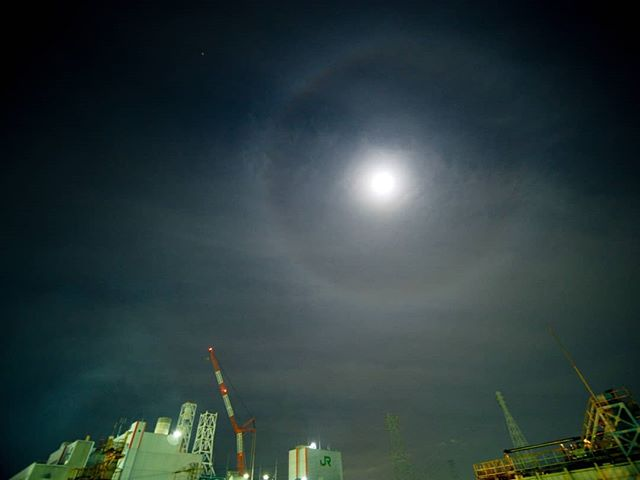building: (1, 414, 206, 480), (293, 441, 343, 480)
crane: (202, 346, 258, 480)
moon: (348, 163, 409, 207)
sky: (11, 1, 640, 427)
